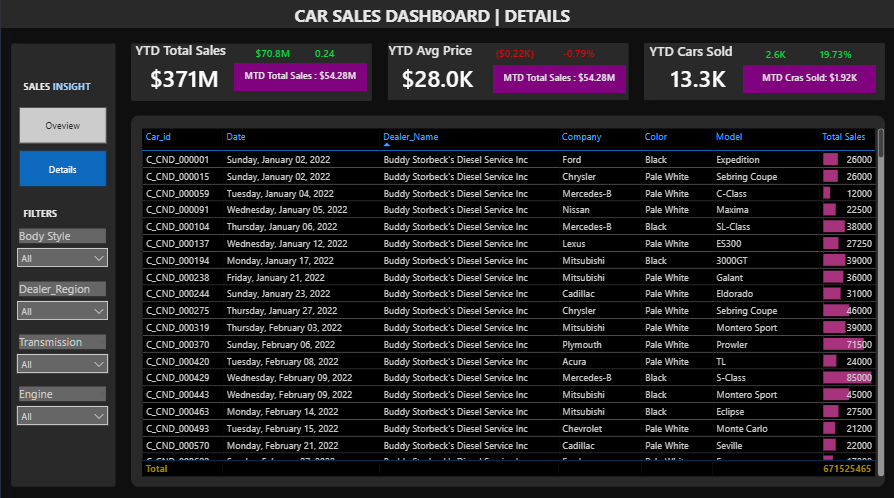

What the dashboard file says about the page in this screenshot:
{"tool":"powerbi","page":{"name":"Details","canvas":[1280,720],"ordinal":1},"visuals":[{"type":"card","title":"YTD Total Sales","fields":{"Values":["car_data.Total YTD"]},"box":[188.1,58.8,149.5,80.6],"z":0},{"type":"card","title":"YTD Total Sales","fields":{"Values":["car_data.Sales Difference"]},"box":[352.8,58.8,73.9,40.3],"z":1000},{"type":"card","title":"YTD Total Sales","fields":{"Values":["car_data.YoY Sales Growth"]},"box":[426.7,58.8,73.9,40.3],"z":2000},{"type":"card","fields":{"Values":["car_data.MTD KPI"]},"box":[334.3,90.7,189.8,40.3],"z":3000},{"type":"card","title":"YTD Avg Price","fields":{"Values":["car_data.YTD Avg Price"]},"box":[549.3,58.8,149.5,80.6],"z":4000},{"type":"card","title":"YTD Total Sales","fields":{"Values":["car_data.Avg Price Diff"]},"box":[698.8,58.8,73.9,40.3],"z":5000},{"type":"card","title":"YTD Total Sales","fields":{"Values":["car_data.YoY Avg Price Growth"]},"box":[789.5,58.8,73.9,40.3],"z":6000},{"type":"card","fields":{"Values":["car_data.MTD KPI"]},"box":[703.8,92.4,189.8,40.3],"z":7000},{"type":"card","title":"YTD Cars Sold","fields":{"Values":["car_data.YTD Cars Sold"]},"box":[922.7,59.5,148.8,79.4],"z":8000},{"type":"card","title":"YTD Total Sales","fields":{"Values":["car_data.Cars Sold Diff"]},"box":[1071.5,59.5,73.7,39.7],"z":9000},{"type":"card","title":"YTD Total Sales","fields":{"Values":["car_data.YoY Car Sold Growth"]},"box":[1156.5,59.5,73.7,39.7],"z":10000},{"type":"card","fields":{"Values":["car_data.MTD Cars Sold KPI"]},"box":[1060.9,92.3,190.3,40.4],"z":11000},{"type":"textbox","box":[415.7,0,417.1,44.3],"z":12000},{"type":"slicer","fields":{"Values":["car_data.Body Style"]},"box":[14.3,321.4,150,75.7],"z":13000},{"type":"slicer","fields":{"Values":["car_data.Dealer_Region"]},"box":[14.3,397.1,150,75.7],"z":14000},{"type":"slicer","fields":{"Values":["car_data.Transmission"]},"box":[14.3,472.9,150,75.7],"z":15000},{"type":"slicer","fields":{"Values":["car_data.Engine"]},"box":[14.3,547.1,150,75.7],"z":16000},{"type":"textbox","box":[28.6,291.4,72.9,30],"z":17000},{"type":"tableEx","fields":{"Values":["car_data.Car_id","car_data.Date","car_data.Dealer_Name","car_data.Company","car_data.Color","car_data.Model","Sum(car_data.Price ($))"]},"box":[197.1,178.6,1071.4,507.1],"z":18000},{"type":"textbox","box":[28.6,110,135.7,30],"z":19000},{"type":"pageNavigator","box":[27.1,152.9,125.7,115.7],"z":20000}]}

Visuals, with their boxes in screenshot pixels (x1, y1, x2, y2), scaled from the page's 1280x720 canvas onto the 894x498 screenshot:
"YTD Total Sales" card: 131,41,236,96
"YTD Total Sales" card: 246,41,298,69
"YTD Total Sales" card: 298,41,350,69
card - car_data.MTD KPI: 233,63,366,91
"YTD Avg Price" card: 384,41,488,96
"YTD Total Sales" card: 488,41,540,69
"YTD Total Sales" card: 551,41,603,69
card - car_data.MTD KPI: 492,64,624,92
"YTD Cars Sold" card: 644,41,748,96
"YTD Total Sales" card: 748,41,800,69
"YTD Total Sales" card: 808,41,859,69
card - car_data.MTD Cars Sold KPI: 741,64,874,92
textbox: 290,0,582,31
slicer - car_data.Body Style: 10,222,115,275
slicer - car_data.Dealer_Region: 10,275,115,327
slicer - car_data.Transmission: 10,327,115,379
slicer - car_data.Engine: 10,378,115,431
textbox: 20,202,71,222
tableEx - car_data.Car_id x car_data.Date: 138,124,886,474
textbox: 20,76,115,97
pageNavigator: 19,106,107,186
